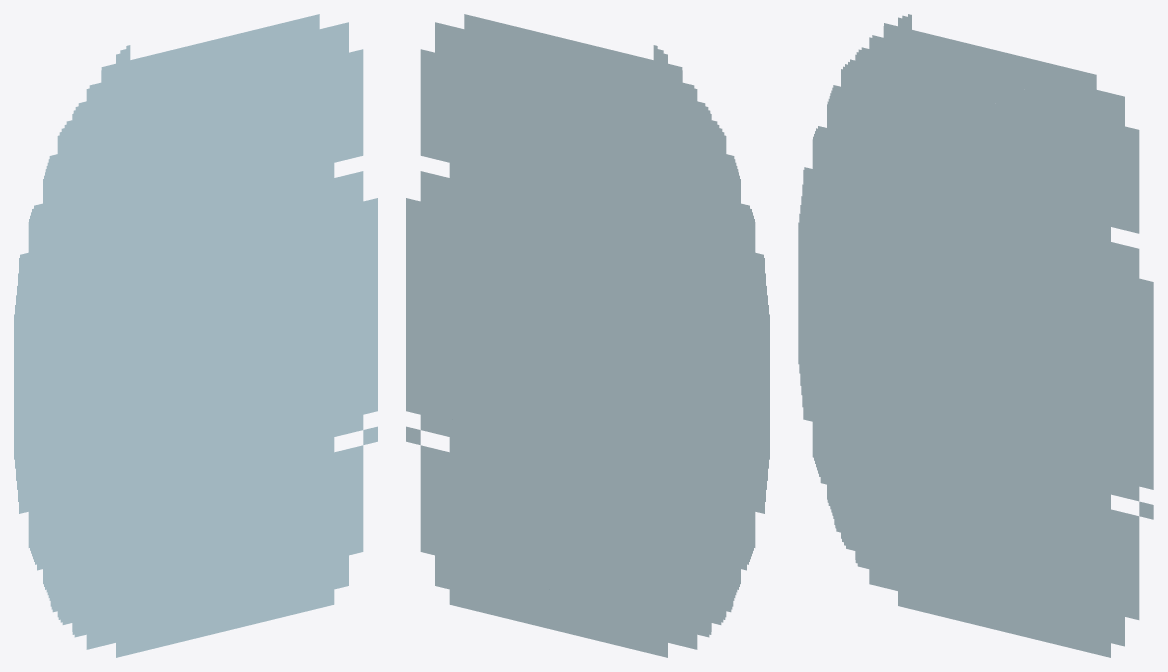
The model's file is wp_water_184.obj.
The picture shows the model from 3 angles, left to right: view 1: azimuth 30°, elevation 25°; view 2: azimuth 150°, elevation 25°; view 3: azimuth 330°, elevation 25°; orthographic projection. The views are drawn at different scales.
Size of the model in its own units: 0.366 by 0.5856 by 0.
Materials: 1 (1 with a texture image).
